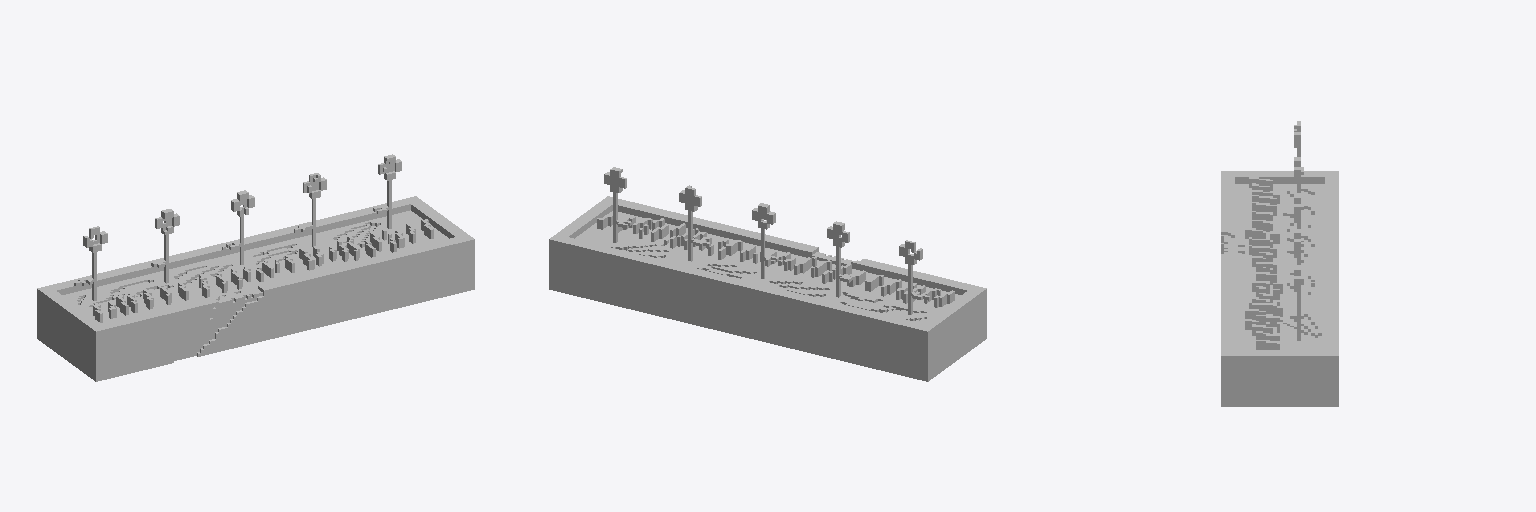
Rendered from plantas_mortas.obj.
3 renders of one model, left to right at view 1: azimuth 30°, elevation 25°; view 2: azimuth 150°, elevation 25°; view 3: azimuth 270°, elevation 25°, orthographic.
Parts seen in each view (by area): view 1: plantinhasMortas; view 2: plantinhasMortas; view 3: plantinhasMortas.
Part boxes in pixels (bbox=[...]): plantinhasMortas: bbox=[37, 154, 474, 381]; plantinhasMortas: bbox=[549, 167, 986, 381]; plantinhasMortas: bbox=[1221, 121, 1338, 406].
Size of the model in its own units: 7.91 by 2.32 by 2.14.